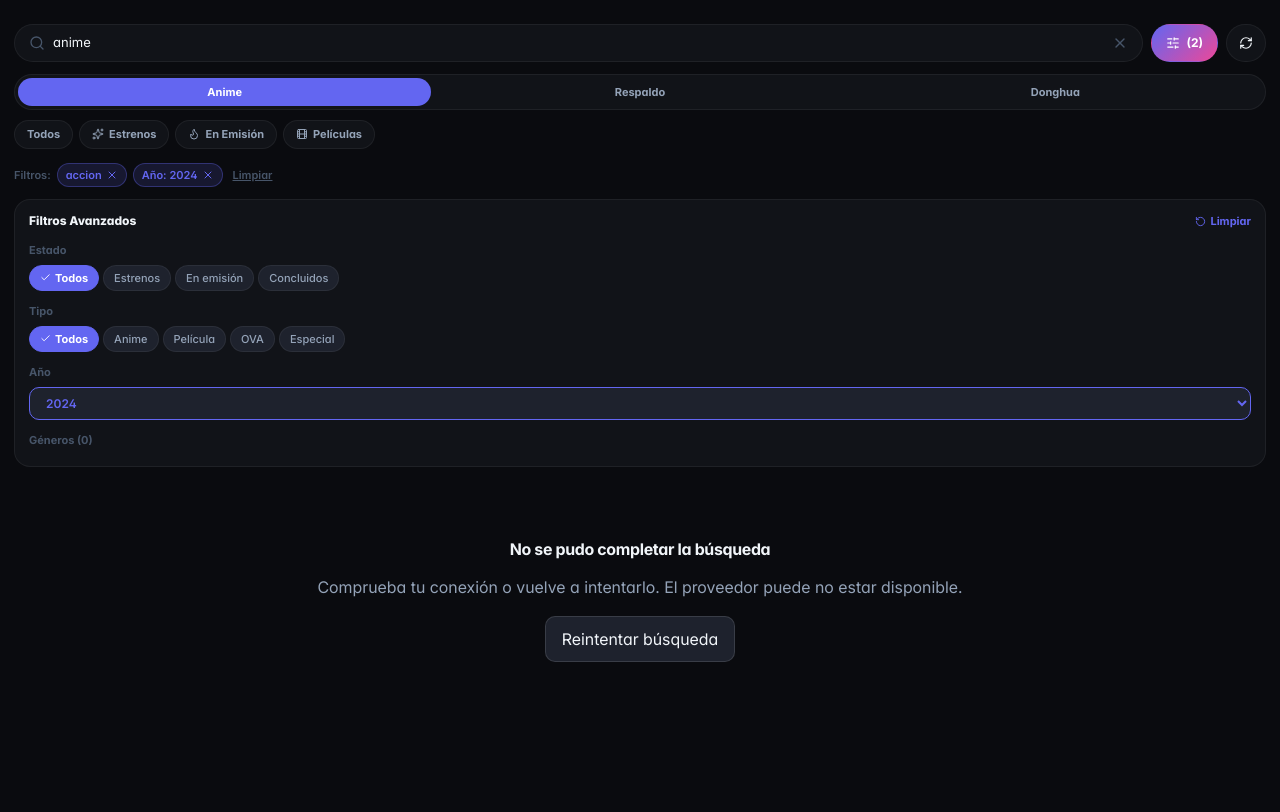
Test: mobile search recovery › distinguishes failure from empty results and retries the same filters and page
Expected: the message shows "No se pudo completar la búsqueda", [510,539,770,559]
Click the button "Reintentar búsqueda" at (640, 639), box [545,616,735,662]
(page scrolled)
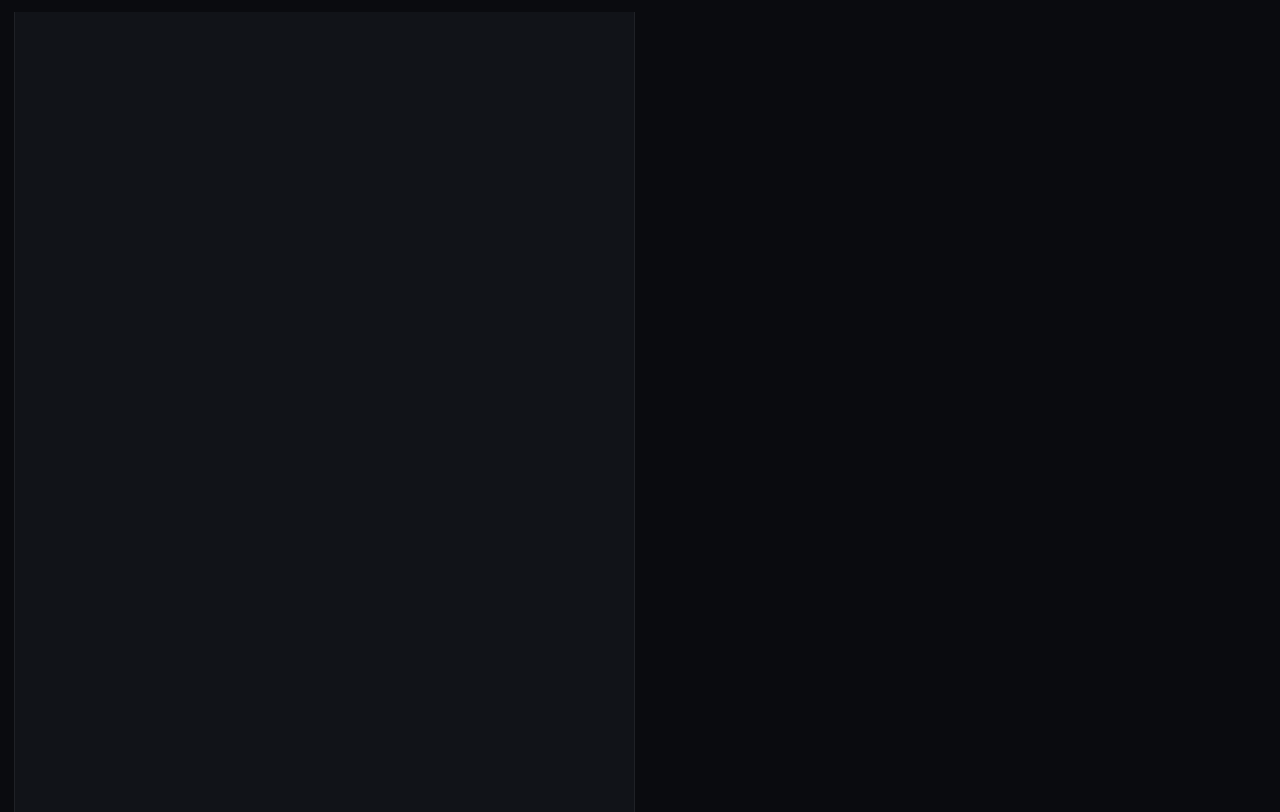
Expected: the message is gone
